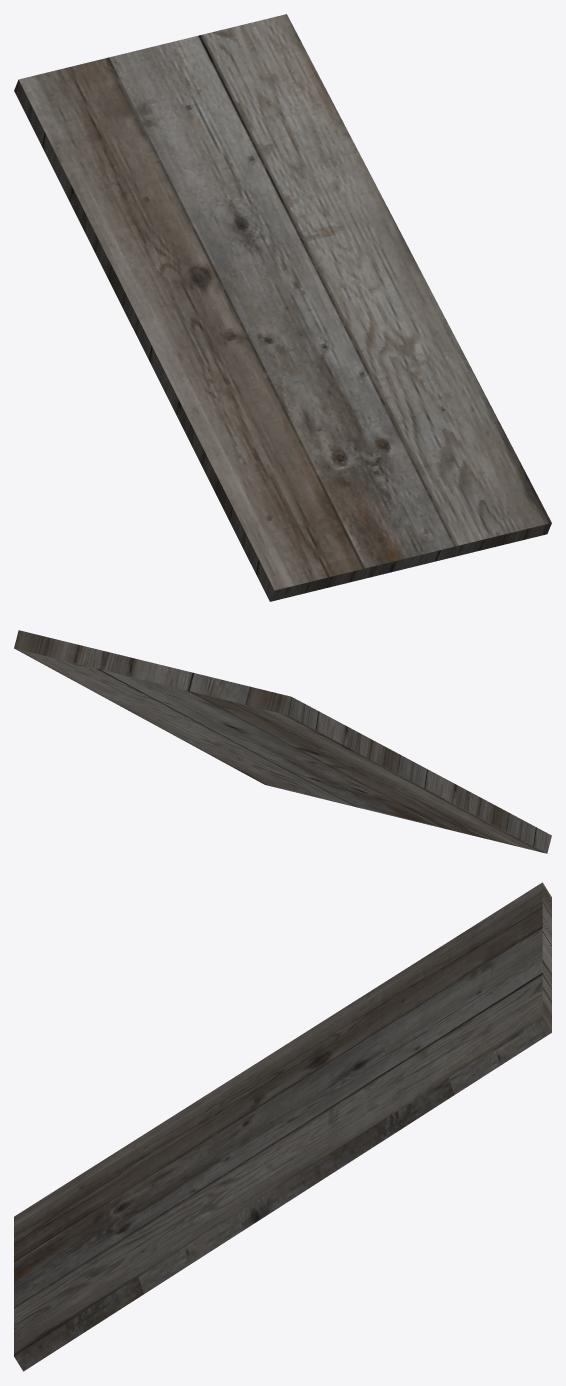
Rendered from ramp.fbx.
3 renders of one model, top to bottom at view 1: azimuth 30°, elevation 25°; view 2: azimuth 150°, elevation 25°; view 3: azimuth 270°, elevation 25°, orthographic. The views are drawn at different scales.
Visible parts, largest first — view 1: Cube; view 2: Cube; view 3: Cube.
Boxes of the visible parts, x1=… form: Cube: x1=14, y1=14, x2=551, y2=601; Cube: x1=14, y1=630, x2=551, y2=853; Cube: x1=14, y1=882, x2=551, y2=1371.
Size of the model in its own units: 200 by 233 by 325.
1 material, 1 textured.
